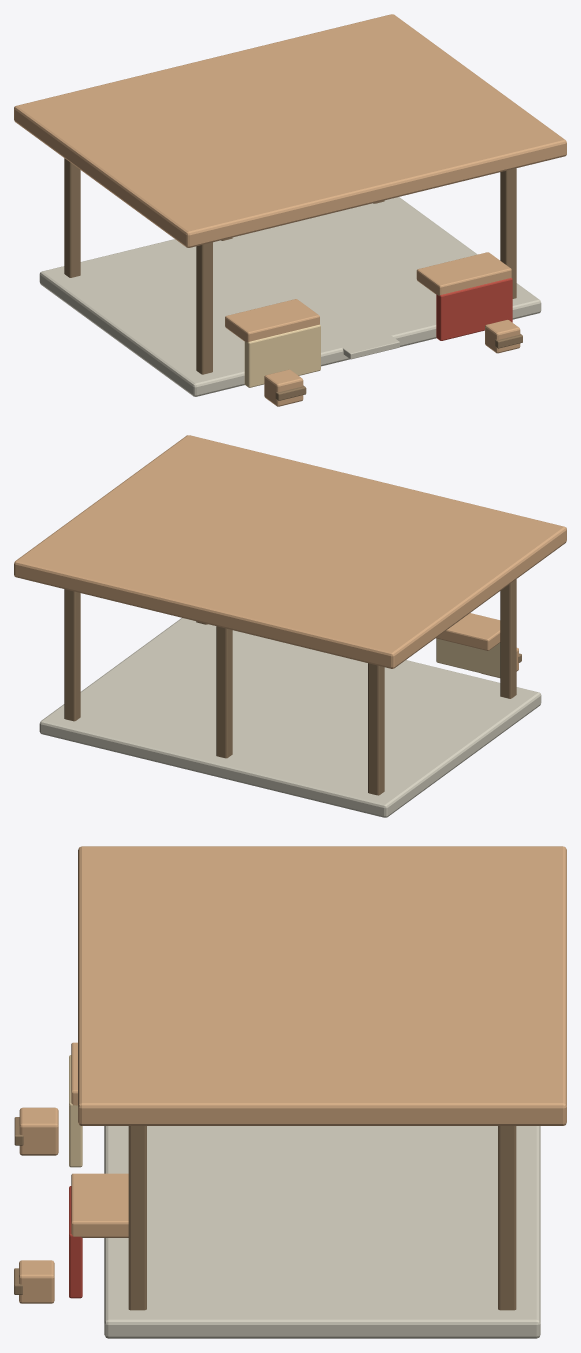
Rendered from arid-market-0.glb.
3 renders of one model, top to bottom at view 1: azimuth 30°, elevation 25°; view 2: azimuth 150°, elevation 25°; view 3: azimuth 270°, elevation 25°, orthographic. The views are drawn at different scales.
Visible parts, largest first — view 1: Adobe cream, Cut limestone, Adobe wood, Palm beams, Market red cloth, Market cream cloth; view 2: Adobe cream, Cut limestone, Palm beams, Adobe wood, Market cream cloth; view 3: Adobe cream, Cut limestone, Adobe wood, Palm beams, Market red cloth, Market cream cloth.
Boxes of the visible parts, left/top/right/bottom form: Adobe cream: left=14, top=14, right=566, bottom=247; Cut limestone: left=39, top=197, right=541, bottom=396; Adobe wood: left=225, top=252, right=520, bottom=406; Palm beams: left=64, top=158, right=522, bottom=400; Market red cloth: left=436, top=278, right=512, bottom=340; Market cream cloth: left=244, top=324, right=320, bottom=387; Adobe cream: left=14, top=435, right=566, bottom=668; Cut limestone: left=39, top=618, right=541, bottom=817; Palm beams: left=64, top=579, right=521, bottom=795; Adobe wood: left=436, top=613, right=518, bottom=677; Market cream cloth: left=436, top=638, right=500, bottom=677; Adobe cream: left=78, top=846, right=566, bottom=1125; Cut limestone: left=104, top=1126, right=540, bottom=1338; Adobe wood: left=19, top=1042, right=128, bottom=1303; Palm beams: left=14, top=1117, right=516, bottom=1310; Market red cloth: left=69, top=1186, right=82, bottom=1298; Market cream cloth: left=69, top=1055, right=82, bottom=1167.
Size of the model in its own units: 5.36 by 2.37 by 4.82.
